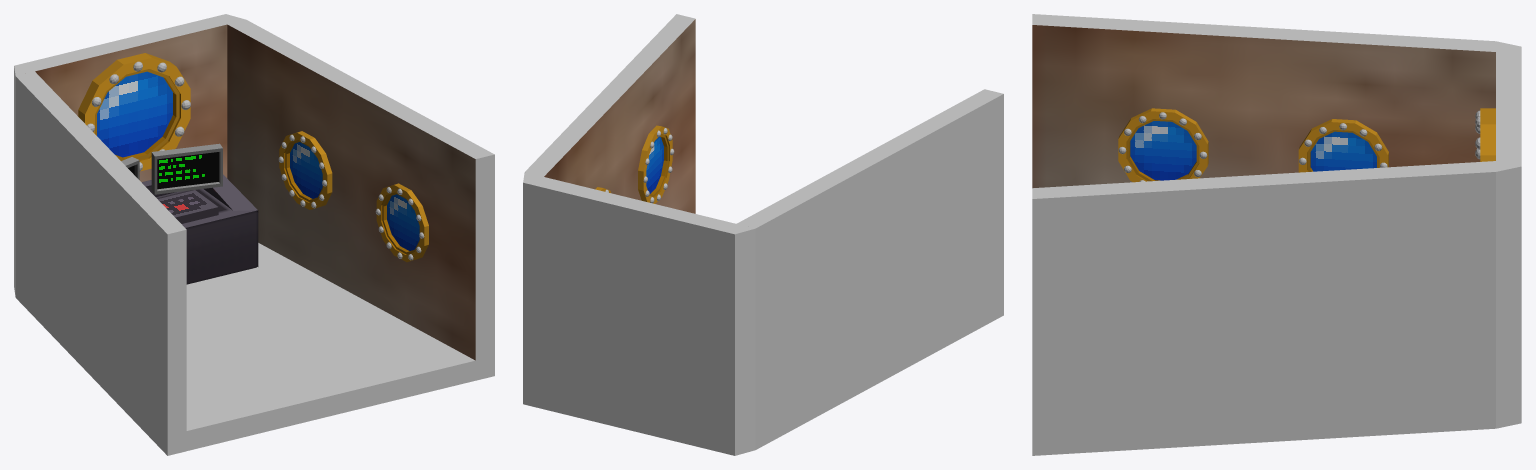
File: ControlRoomFINAL.obj
The picture shows the model from 3 angles, left to right: view 1: azimuth 30°, elevation 25°; view 2: azimuth 150°, elevation 25°; view 3: azimuth 270°, elevation 25°; orthographic projection. The views are drawn at different scales.
Parts seen in each view (by area): view 1: mesh, windowDONE, the control table, screen; view 2: mesh, windowDONE; view 3: mesh, windowDONE.
Part boxes in pixels (x1,y1,x2,y2): mesh: [14, 14, 494, 455]; windowDONE: [78, 53, 428, 262]; the control table: [142, 174, 258, 284]; screen: [121, 143, 222, 194]; mesh: [523, 14, 1003, 455]; windowDONE: [595, 125, 674, 203]; mesh: [1032, 14, 1521, 455]; windowDONE: [1118, 108, 1495, 182].
Size of the model in its own units: 2.12 by 1.37 by 2.38.
